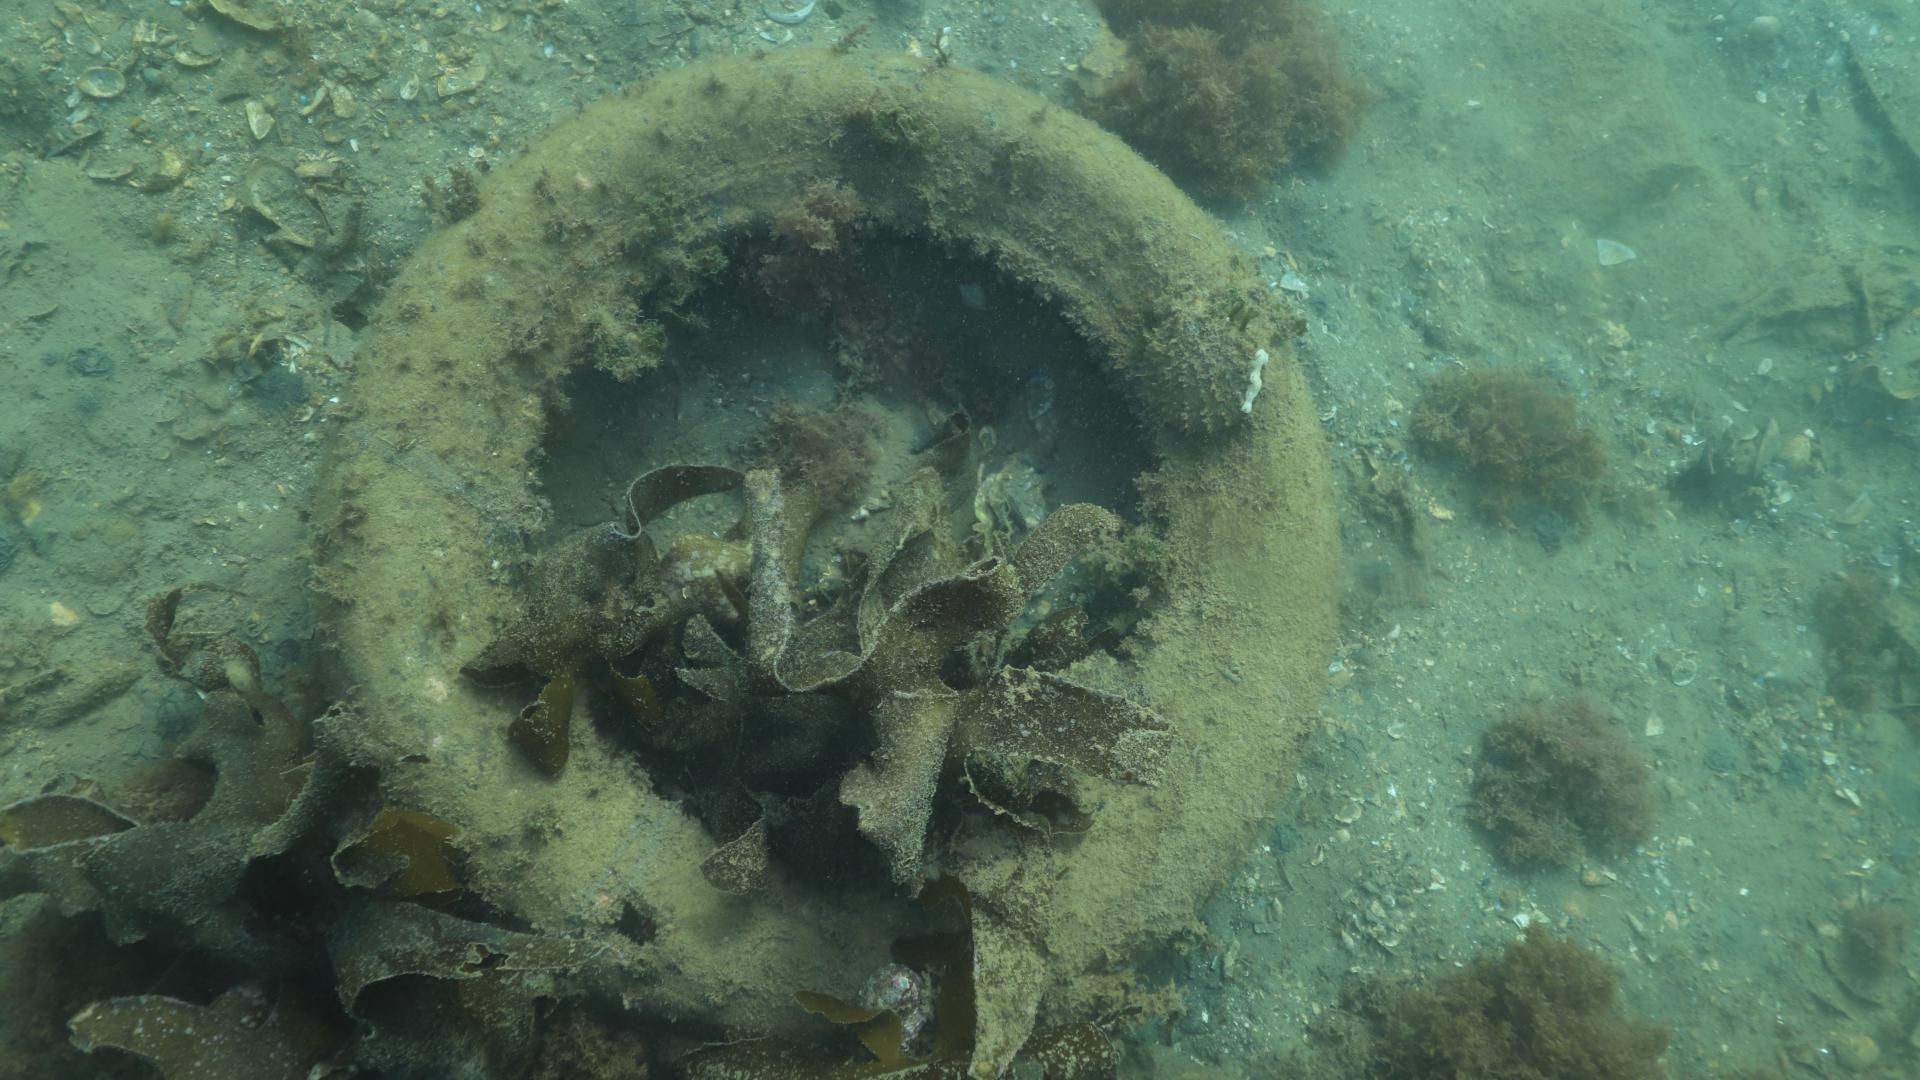tire: (307, 42, 1348, 1043)
